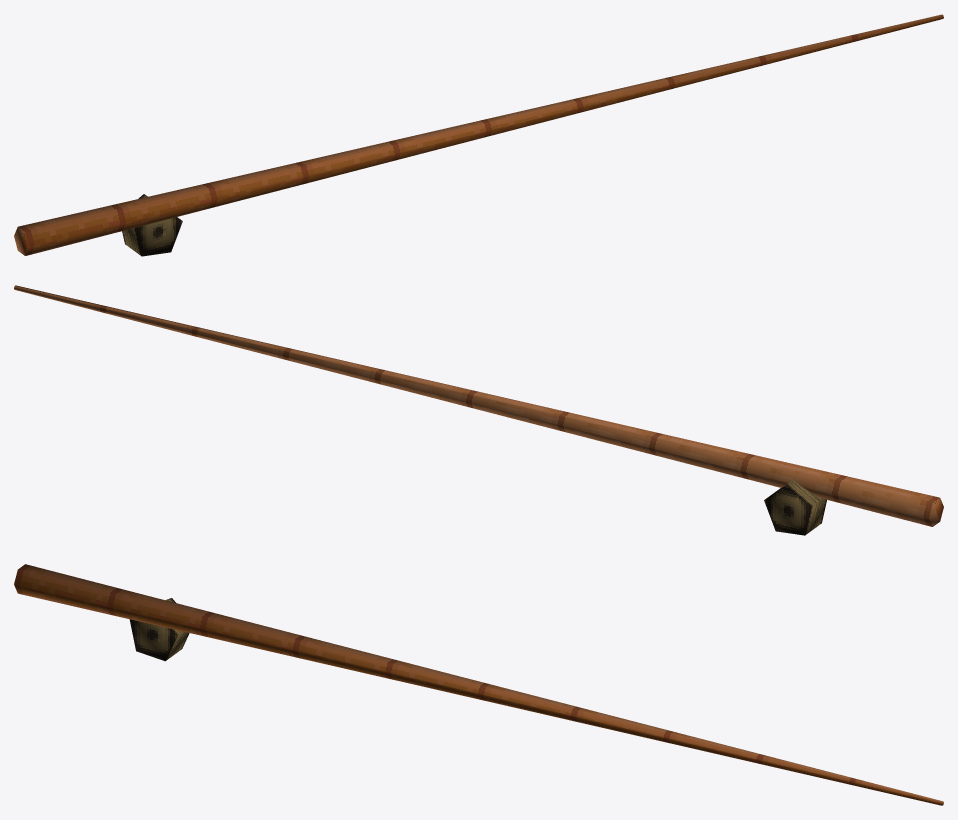
The picture shows the model from 3 angles, top to bottom: view 1: azimuth 30°, elevation 25°; view 2: azimuth 150°, elevation 25°; view 3: azimuth 330°, elevation 25°; orthographic projection.
Parts seen in each view (by area): view 1: it38; view 2: it38; view 3: it38.
Boxes of the visible parts, x1,y1,x2,y2 form: it38: [14, 14, 943, 256]; it38: [14, 285, 943, 535]; it38: [14, 564, 943, 805].
Size of the model in its own units: 6.38 by 0.3743 by 0.2578.
3 materials, 3 textured.
